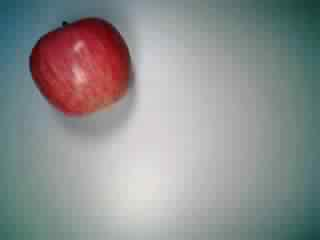apple: (28, 14, 132, 118)
